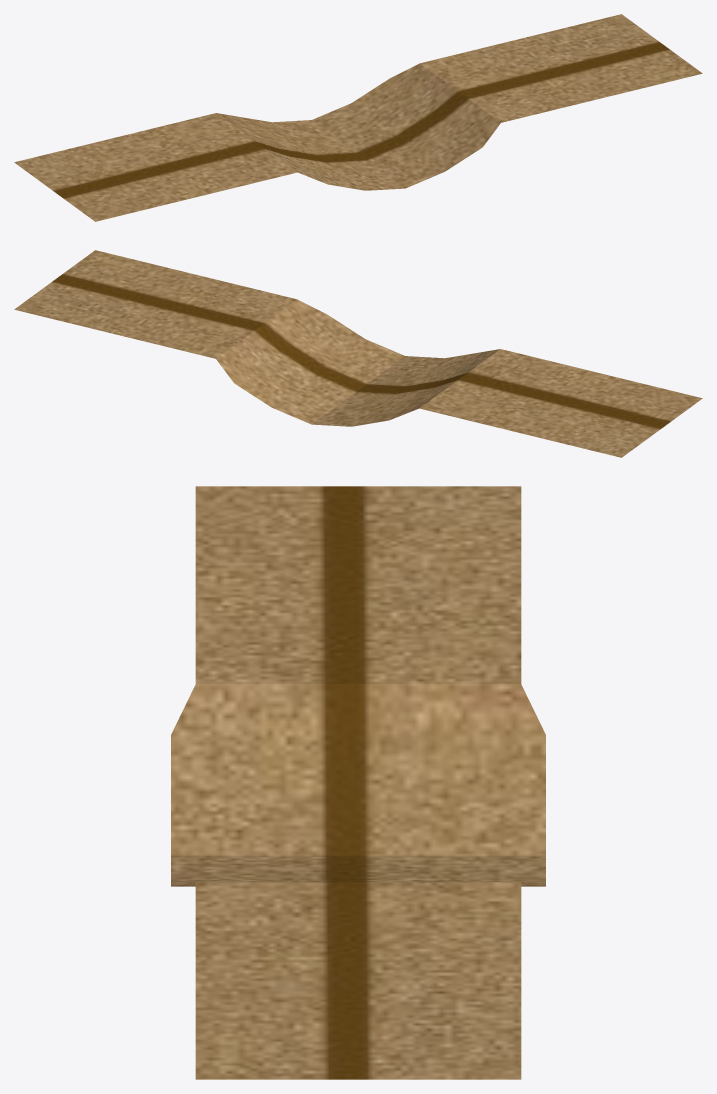
File: BoulderTrack2.fbx
3 renders of one model, top to bottom at view 1: azimuth 30°, elevation 25°; view 2: azimuth 150°, elevation 25°; view 3: azimuth 270°, elevation 25°, orthographic. The views are drawn at different scales.
Visible parts, largest first — view 1: pPlane1; view 2: pPlane1; view 3: pPlane1.
Boxes of the visible parts, bbox=[...] form: pPlane1: bbox=[14, 14, 702, 221]; pPlane1: bbox=[14, 250, 702, 457]; pPlane1: bbox=[171, 486, 545, 1079].
Size of the model in its own units: 855 by 48.86 by 228.
1 material, 1 textured.
